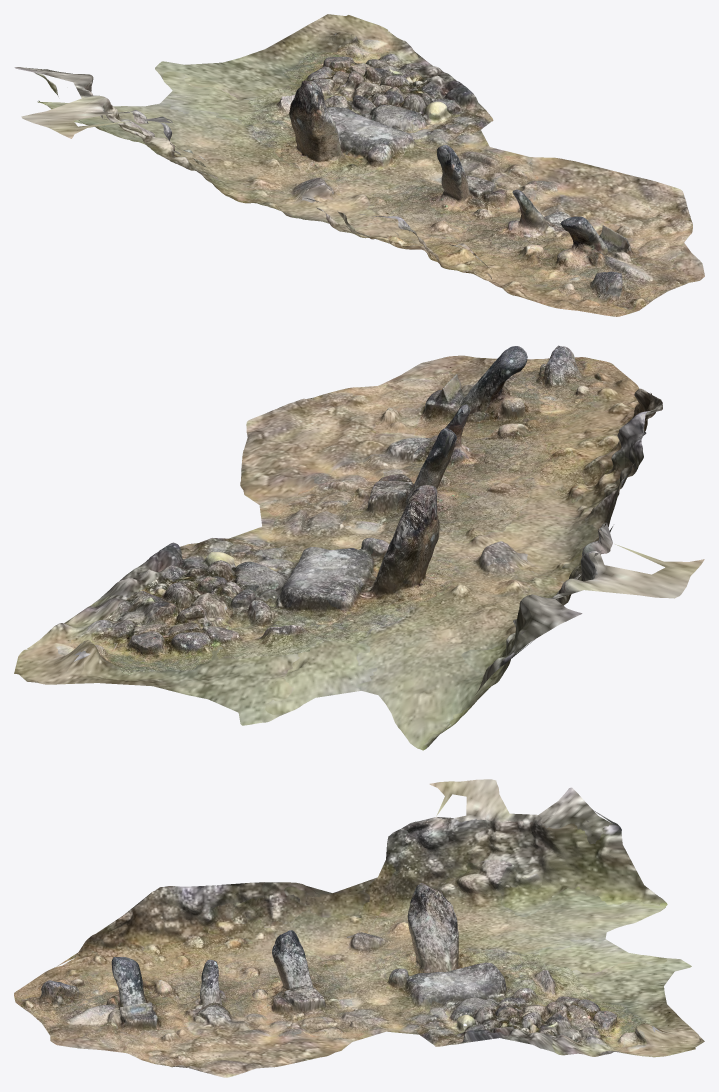
Rendered from kursi.glb.
3 views of the same model, one above another, from view 1: azimuth 30°, elevation 25°; view 2: azimuth 150°, elevation 25°; view 3: azimuth 270°, elevation 25° (orthographic). The views are drawn at different scales.
Parts seen in each view (by area): view 1: mesh; view 2: mesh; view 3: mesh.
Boxes of the visible parts, left/top/right/bottom form: mesh: left=14, top=14, right=704, bottom=316; mesh: left=14, top=345, right=704, bottom=750; mesh: left=14, top=779, right=704, bottom=1077.
Bounding box in the file's own units: 4.69 × 0.9005 × 6.19.
1 material, 1 textured.
